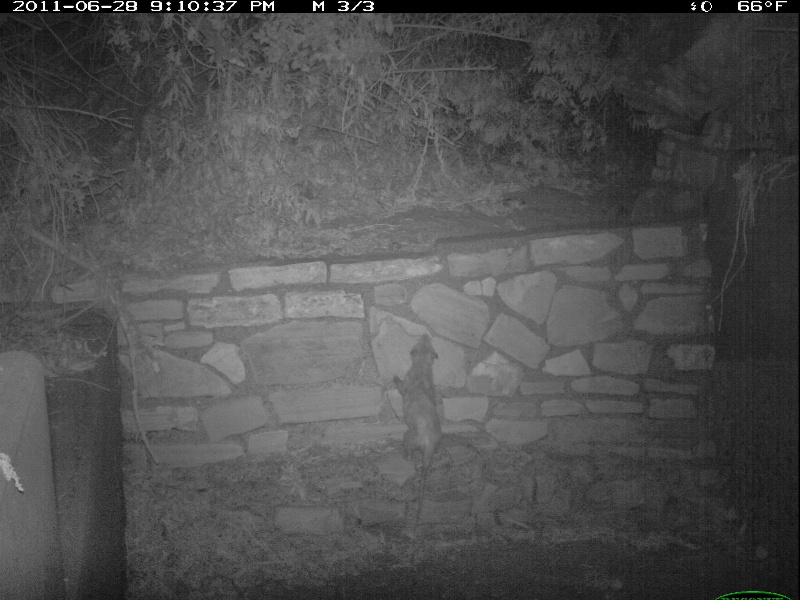opossum: (390, 327, 445, 470)
